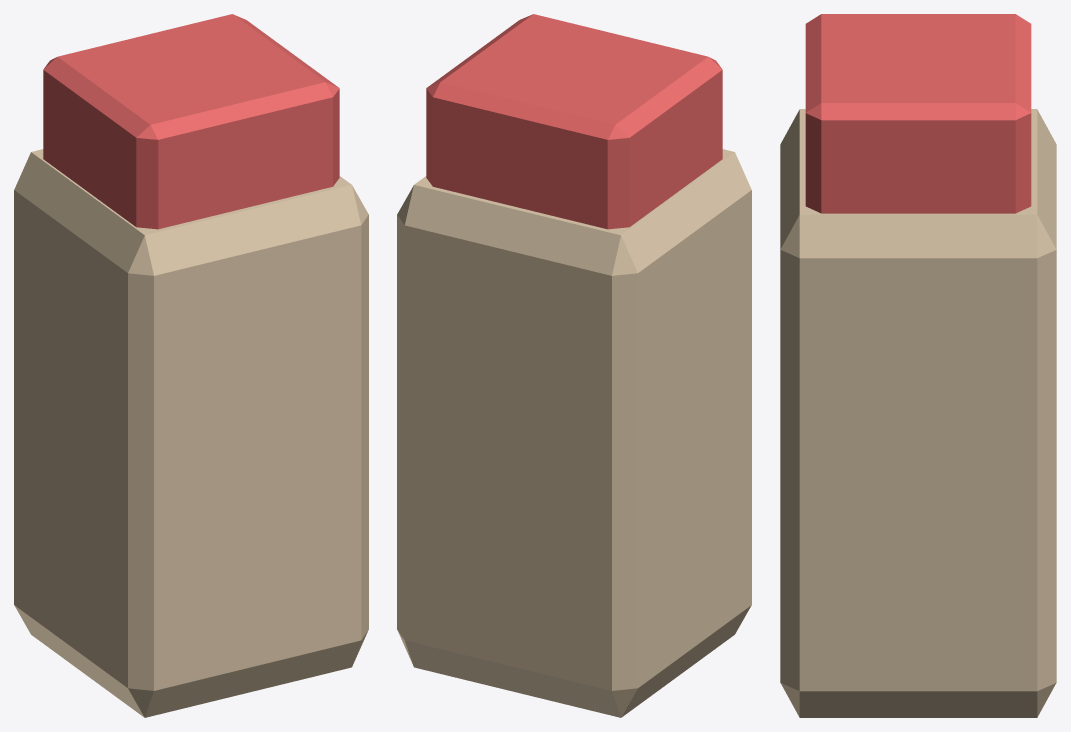
File: b16_fountain_drink_with_straw.glb
The picture shows the model from 3 angles, left to right: view 1: azimuth 30°, elevation 25°; view 2: azimuth 150°, elevation 25°; view 3: azimuth 270°, elevation 25°; orthographic projection. The views are drawn at different scales.
Parts seen in each view (by area): view 1: b16_fountain_drink_with_straw; view 2: b16_fountain_drink_with_straw; view 3: b16_fountain_drink_with_straw.
Part boxes in pixels (x1=…): b16_fountain_drink_with_straw: x1=14, y1=14, x2=368, y2=717; b16_fountain_drink_with_straw: x1=397, y1=14, x2=751, y2=717; b16_fountain_drink_with_straw: x1=780, y1=14, x2=1056, y2=717.
Bounding box in the file's own units: 0.104 × 0.24 × 0.099.
